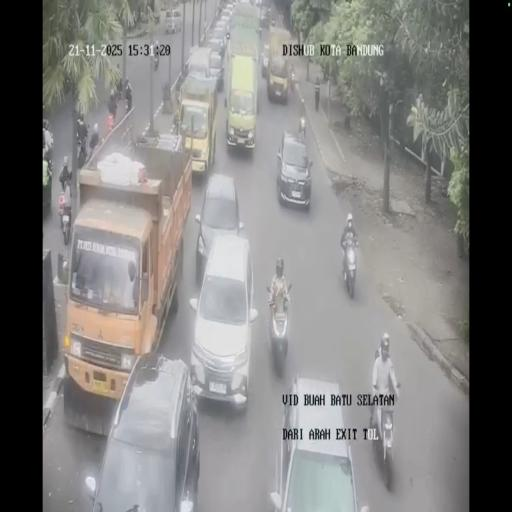car: (270, 374, 365, 510), (188, 234, 257, 410), (276, 129, 312, 208), (217, 7, 233, 42), (164, 8, 184, 34), (208, 36, 226, 63), (259, 3, 270, 28), (262, 43, 270, 76), (254, 0, 262, 7)
motorcycle: (371, 389, 398, 483), (267, 280, 292, 372), (340, 232, 358, 298), (57, 187, 72, 242), (85, 138, 101, 166), (76, 136, 88, 168), (43, 138, 53, 170), (115, 72, 123, 99), (107, 95, 117, 115), (106, 114, 115, 135), (124, 92, 132, 114), (154, 50, 158, 70)
truck: (63, 130, 190, 424), (177, 66, 220, 176), (225, 49, 259, 152), (266, 30, 292, 102), (229, 2, 261, 48)
